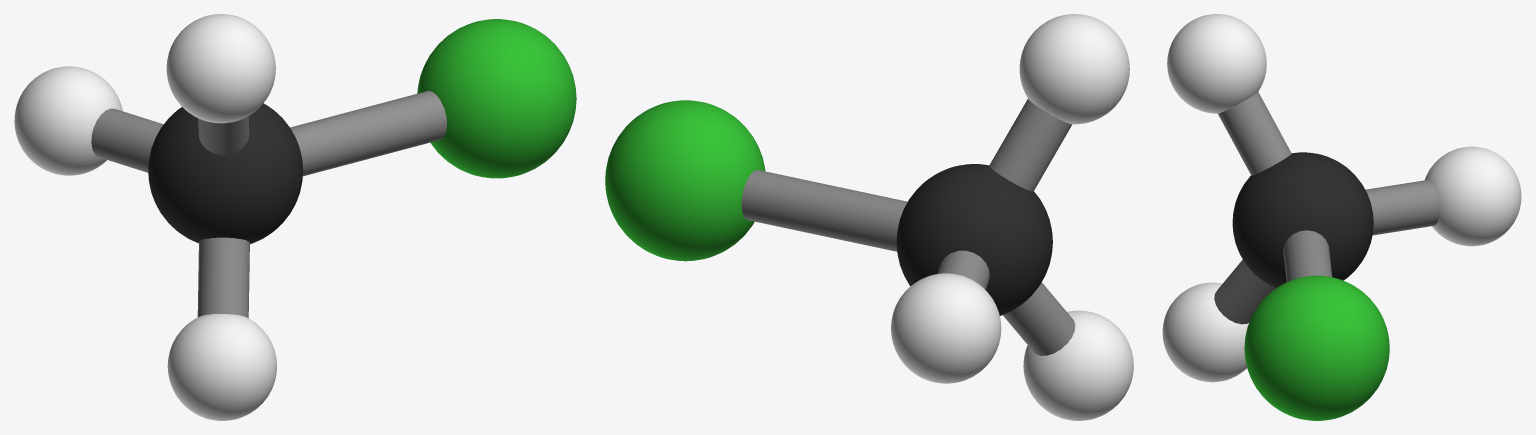
File: chlormethan.glb
3 views of the same model, side by side, from view 1: azimuth 30°, elevation 25°; view 2: azimuth 150°, elevation 25°; view 3: azimuth 270°, elevation 25° (orthographic). The views are drawn at different scales.
Visible parts, largest first — view 1: Cl_1, C_0, H_3, H_2, H_4, B0, B1, B3, B2; view 2: Cl_1, C_0, H_4, H_3, H_2, B0, B2, B1, B3; view 3: Cl_1, C_0, H_3, H_4, H_2, B2, B3, B1, B0.
Boxes of the visible parts, x1,y1,x2,y2 form: Cl_1: [417, 19, 576, 178]; C_0: [148, 103, 303, 244]; H_3: [166, 14, 275, 123]; H_2: [167, 314, 276, 420]; H_4: [14, 66, 122, 175]; B0: [290, 90, 446, 176]; B1: [197, 237, 249, 317]; B3: [91, 108, 163, 172]; B2: [198, 116, 249, 155]; Cl_1: [605, 100, 765, 261]; C_0: [896, 164, 1052, 315]; H_4: [891, 273, 1001, 383]; H_3: [1019, 14, 1129, 124]; H_2: [1023, 310, 1133, 420]; B0: [741, 170, 907, 251]; B2: [989, 99, 1072, 191]; B1: [1003, 282, 1075, 355]; B3: [937, 250, 989, 289]; Cl_1: [1244, 275, 1389, 420]; C_0: [1232, 152, 1373, 287]; H_3: [1167, 14, 1266, 113]; H_4: [1425, 146, 1521, 246]; H_2: [1162, 282, 1248, 382]; B2: [1218, 92, 1291, 175]; B3: [1365, 180, 1439, 235]; B1: [1214, 259, 1276, 324]; B0: [1283, 230, 1332, 281].
Bounding box in the file's own units: 2.91 × 2.39 × 2.16.
